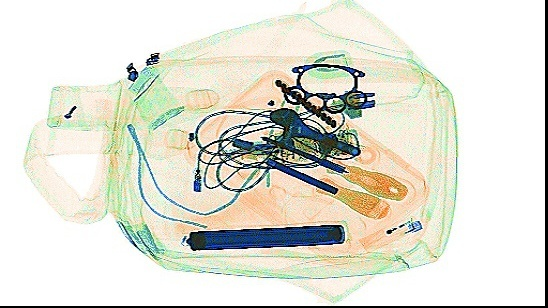lighter: (356, 214, 422, 252)
